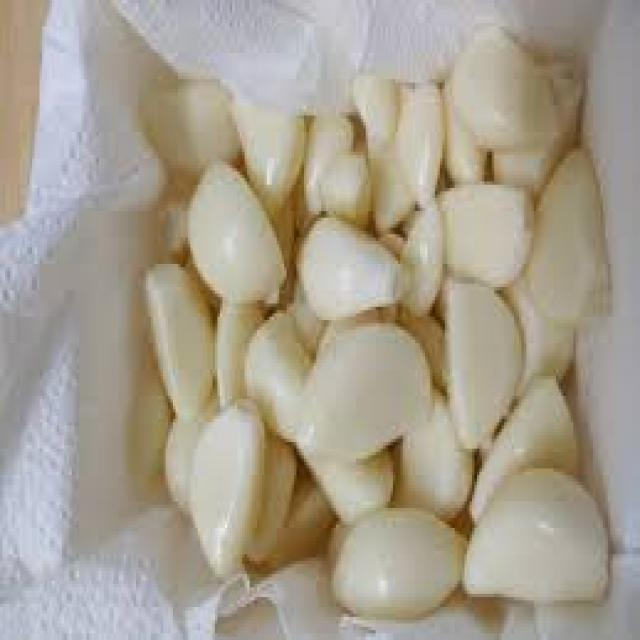Garlic bulb: (282, 158, 548, 495), (168, 165, 435, 459)
